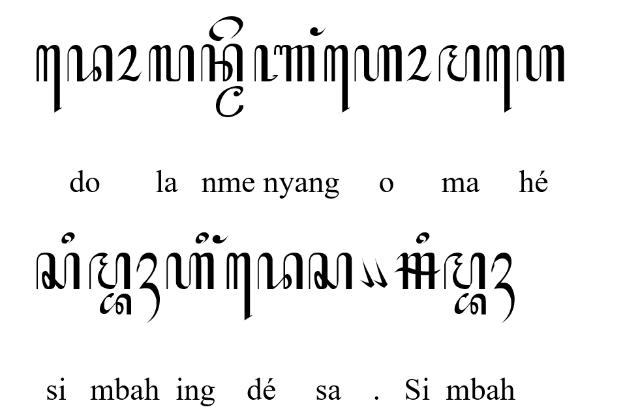S: (395, 253, 441, 289)
_b: (454, 293, 486, 315), (100, 294, 130, 316)
_h1: (136, 253, 160, 324), (491, 253, 515, 324)
_m: (215, 86, 243, 117)
d: (257, 253, 303, 290), (68, 44, 112, 82)
e: (208, 16, 244, 40)
e1: (226, 252, 252, 322), (36, 45, 62, 113), (324, 45, 350, 113), (486, 45, 512, 113)
h: (355, 44, 403, 82), (516, 44, 564, 82), (166, 253, 214, 290)
i: (61, 232, 74, 244), (416, 232, 429, 244), (196, 232, 208, 244)
kom: (373, 258, 387, 289), (360, 258, 374, 288)
l: (148, 45, 194, 81)
m: (444, 252, 486, 290), (438, 44, 479, 82), (89, 252, 130, 290)
n: (202, 44, 242, 82)
ng: (213, 235, 229, 244), (310, 28, 326, 36)
ny1: (253, 45, 314, 83)
o: (116, 44, 142, 82), (406, 44, 432, 82)
s: (36, 252, 80, 290), (308, 252, 352, 290)
